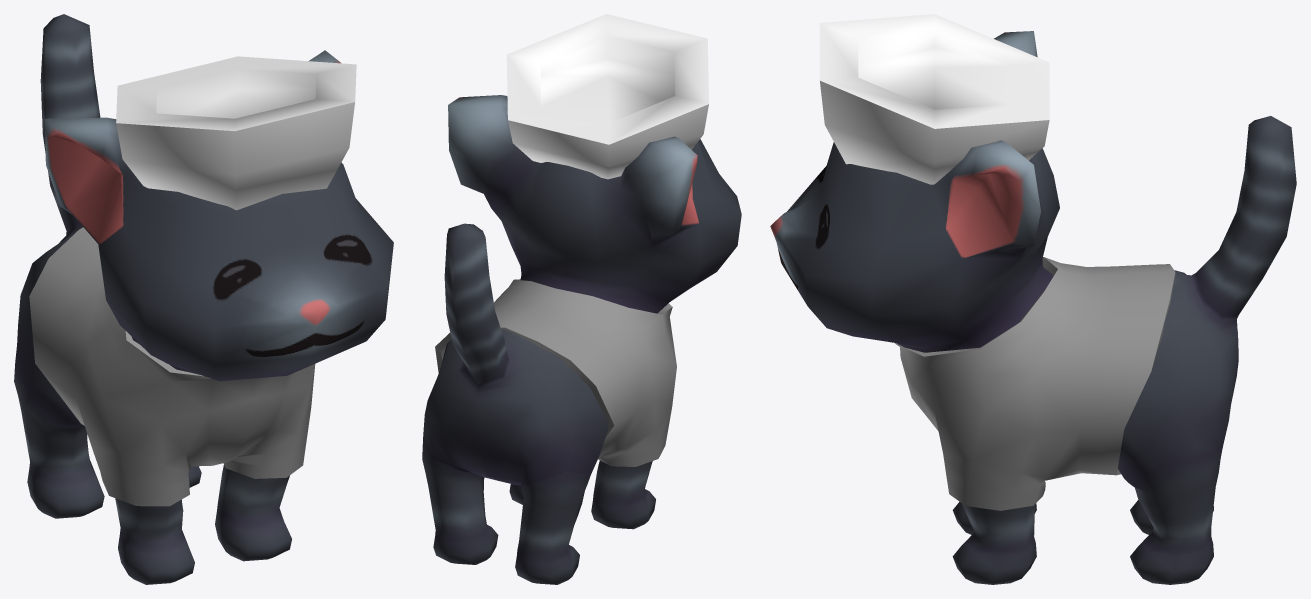
Rendered from Healthy Cat04.fbx.
3 views of the same model, side by side, from view 1: azimuth 30°, elevation 25°; view 2: azimuth 150°, elevation 25°; view 3: azimuth 270°, elevation 25° (orthographic). The views are drawn at different scales.
Parts seen in each view (by area): view 1: Cat_Base003, tshirt001, Healthy_Cat_Hat; view 2: Cat_Base003, Healthy_Cat_Hat, tshirt001; view 3: Cat_Base003, tshirt001, Healthy_Cat_Hat.
Part boxes in pixels (<box>): Cat_Base003: <box>14,14,393,584</box>; tshirt001: <box>29,227,315,506</box>; Healthy_Cat_Hat: <box>116,56,356,210</box>; Cat_Base003: <box>422,95,741,584</box>; Healthy_Cat_Hat: <box>506,14,708,179</box>; tshirt001: <box>435,279,676,466</box>; Cat_Base003: <box>770,31,1296,584</box>; tshirt001: <box>895,257,1175,510</box>; Healthy_Cat_Hat: <box>819,14,1049,184</box>.
Size of the model in its own units: 1.75 by 2.83 by 2.96.
3 materials, 1 textured.
